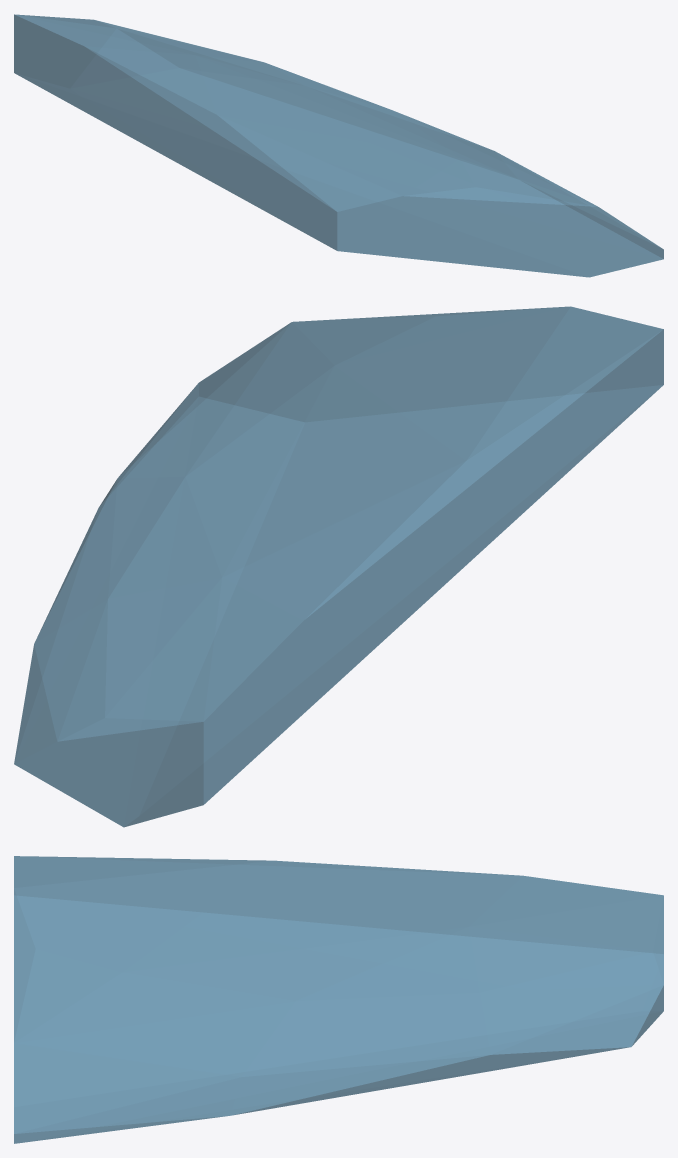
3 renders of one model, top to bottom at view 1: azimuth 30°, elevation 25°; view 2: azimuth 150°, elevation 25°; view 3: azimuth 270°, elevation 25°, orthographic. The views are drawn at different scales.
Parts seen in each view (by area): view 1: Shape_IndexedFaceSet.029_Shape_IndexedFaceSet.10739; view 2: Shape_IndexedFaceSet.029_Shape_IndexedFaceSet.10739; view 3: Shape_IndexedFaceSet.029_Shape_IndexedFaceSet.10739.
Boxes of the visible parts, x1,y1,x2,y2 form: Shape_IndexedFaceSet.029_Shape_IndexedFaceSet.10739: (14,14,663,277); Shape_IndexedFaceSet.029_Shape_IndexedFaceSet.10739: (14,306,663,827); Shape_IndexedFaceSet.029_Shape_IndexedFaceSet.10739: (14,856,663,1143).
Bounding box in the file's own units: 0.1156 × 0.0429 × 0.1982.
